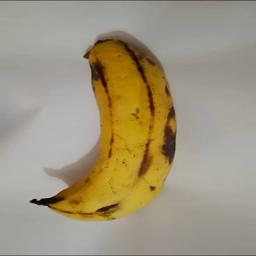Banana Semifresh: (24, 38, 183, 226)
